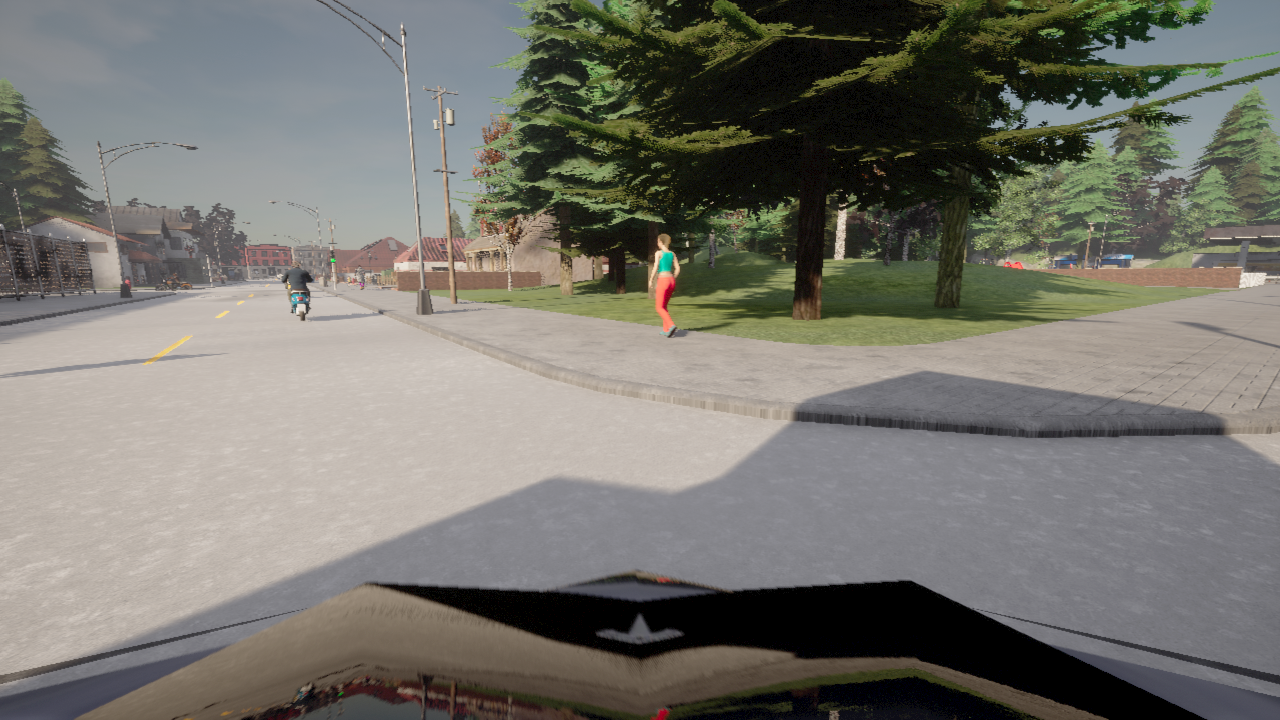cyclist: (0, 569, 1279, 719), (278, 274, 315, 320), (155, 279, 192, 290), (282, 274, 290, 289), (284, 283, 285, 285)
pedestrian: (649, 234, 679, 337), (354, 265, 365, 289), (348, 276, 351, 286)
